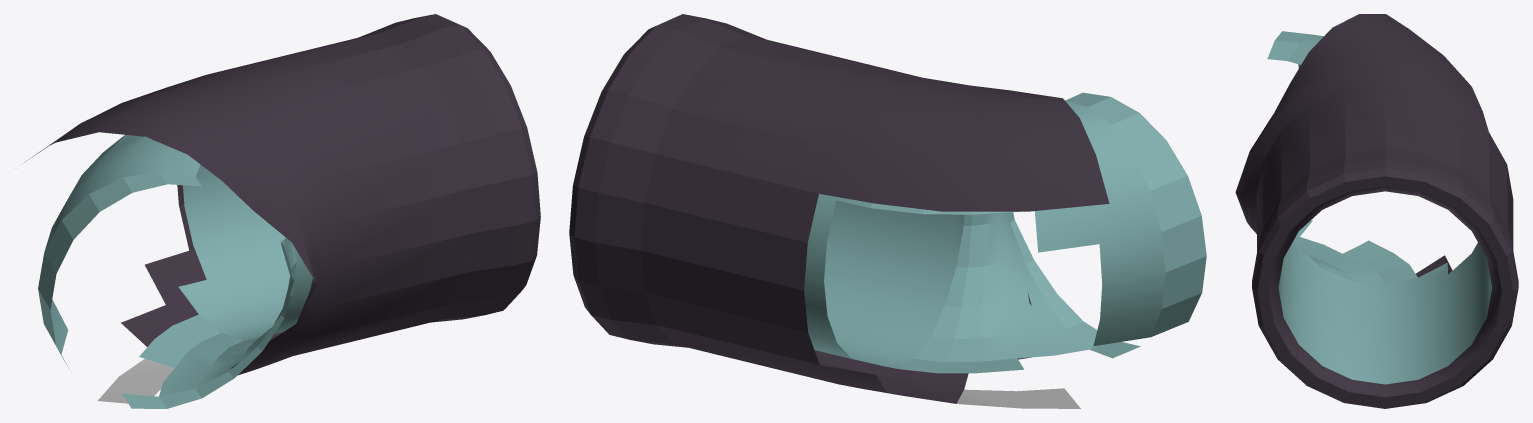
File: TunnelStructure.fbx
The picture shows the model from 3 angles, left to right: view 1: azimuth 30°, elevation 25°; view 2: azimuth 150°, elevation 25°; view 3: azimuth 270°, elevation 25°; orthographic projection. The views are drawn at different scales.
Parts seen in each view (by area): view 1: pCylinder2; view 2: pCylinder2; view 3: pCylinder2.
Boxes of the visible parts, bbox=[...] form: pCylinder2: bbox=[24, 14, 540, 408]; pCylinder2: bbox=[569, 14, 1206, 408]; pCylinder2: bbox=[1235, 14, 1518, 408].
Size of the model in its own units: 4.36 by 2.49 by 2.65.
